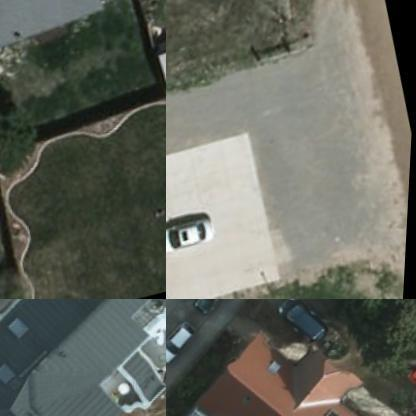car: (279, 299, 333, 350), (166, 216, 221, 256), (166, 317, 208, 366), (189, 299, 242, 320)
